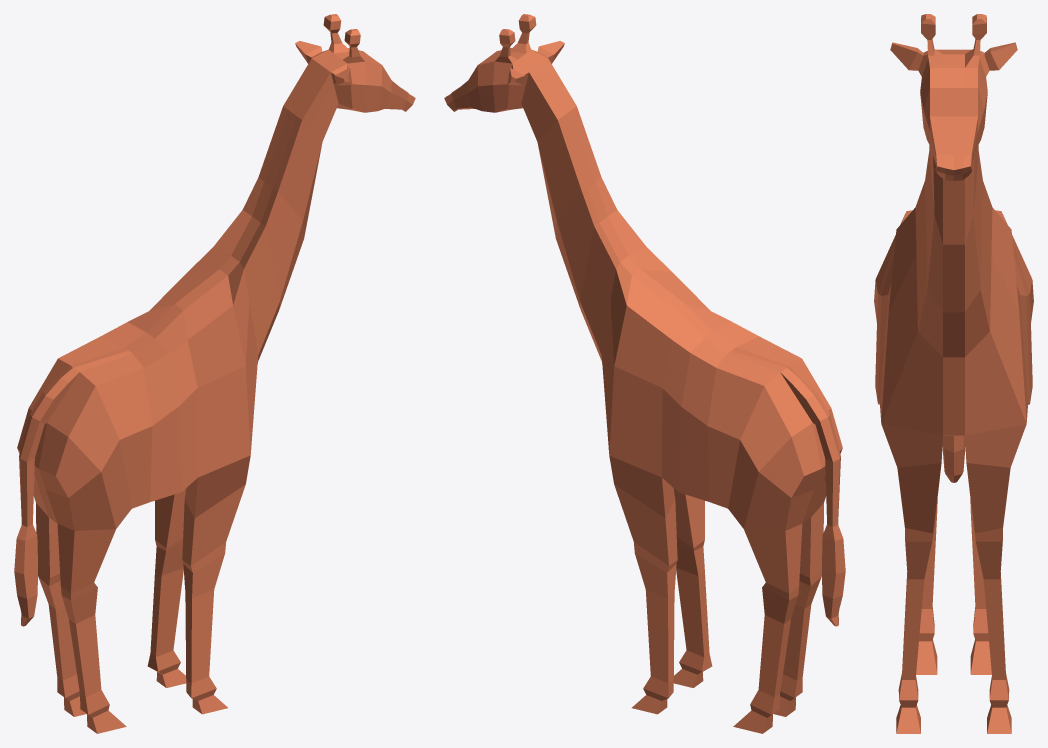
File: giraffe.fbx
3 renders of one model, left to right at view 1: azimuth 30°, elevation 25°; view 2: azimuth 150°, elevation 25°; view 3: azimuth 270°, elevation 25°, orthographic. The views are drawn at different scales.
Parts seen in each view (by area): view 1: Plane; view 2: Plane; view 3: Plane.
Boxes of the visible parts, left/top/right/bottom form: Plane: left=14, top=14, right=415, bottom=733; Plane: left=444, top=14, right=845, bottom=733; Plane: left=874, top=14, right=1033, bottom=733.
Size of what is drawn, in the model's own units: 425 by 651 by 118.
